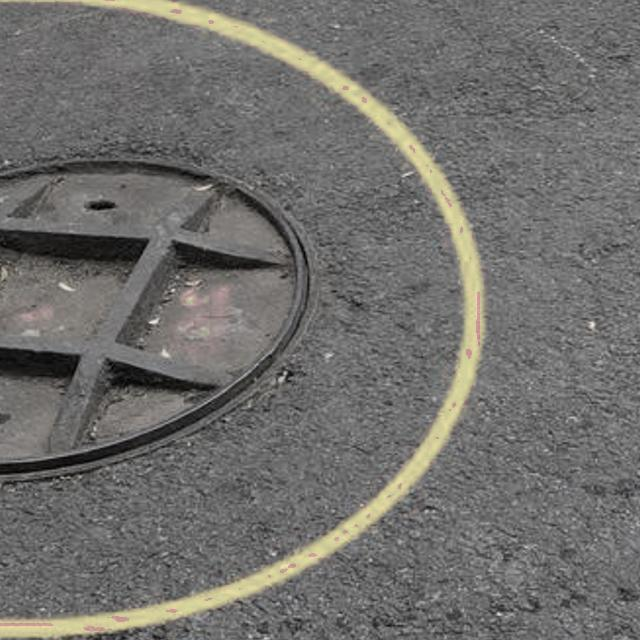good: (0, 137, 337, 495)
